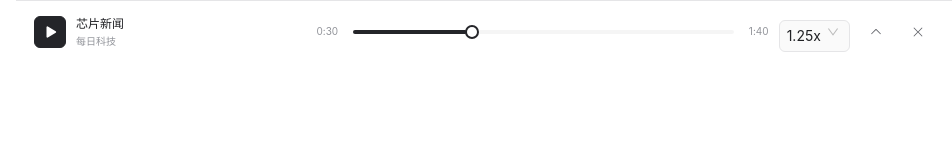
Test case: 节目库与播放器 › does not count a rejected media play
Click the button named "播放": point(50, 32) [34,16,66,48]
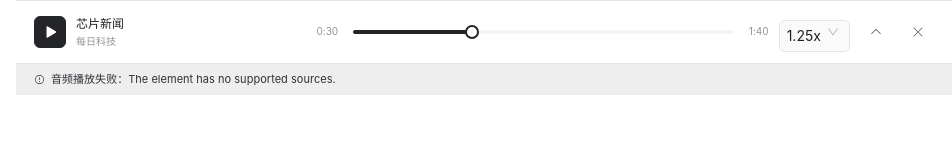
Expected: the text "音频播放失败：The element has no supported sources." is shown, [16,63,951,95]
